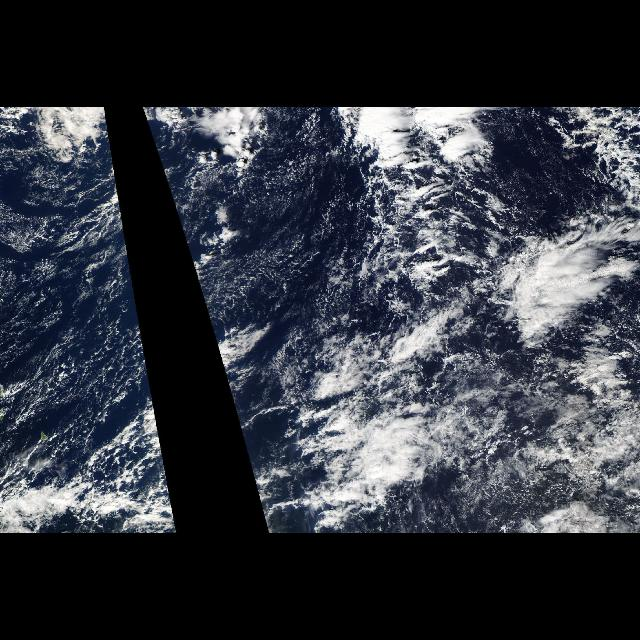Fish: (315, 146, 639, 516)
Gravel: (158, 158, 506, 392), (7, 158, 154, 392)
Sugar: (2, 161, 150, 377), (161, 161, 251, 377)
